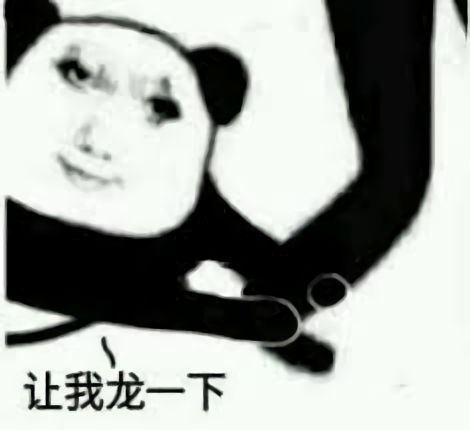dragon: (49, 51, 182, 195)
